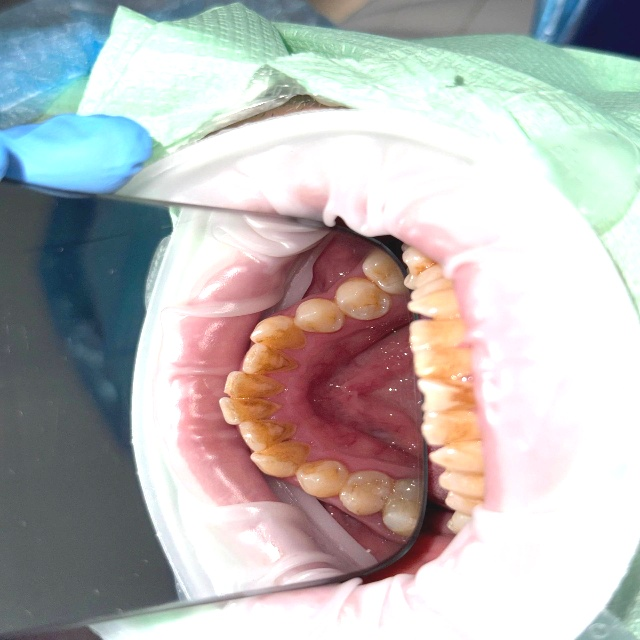clean_tooth: (405, 269, 440, 311), (410, 321, 430, 375), (423, 386, 448, 411)
plaque: (0, 0, 229, 111), (50, 240, 137, 460), (0, 116, 151, 197), (530, 0, 590, 43), (243, 0, 329, 23)
